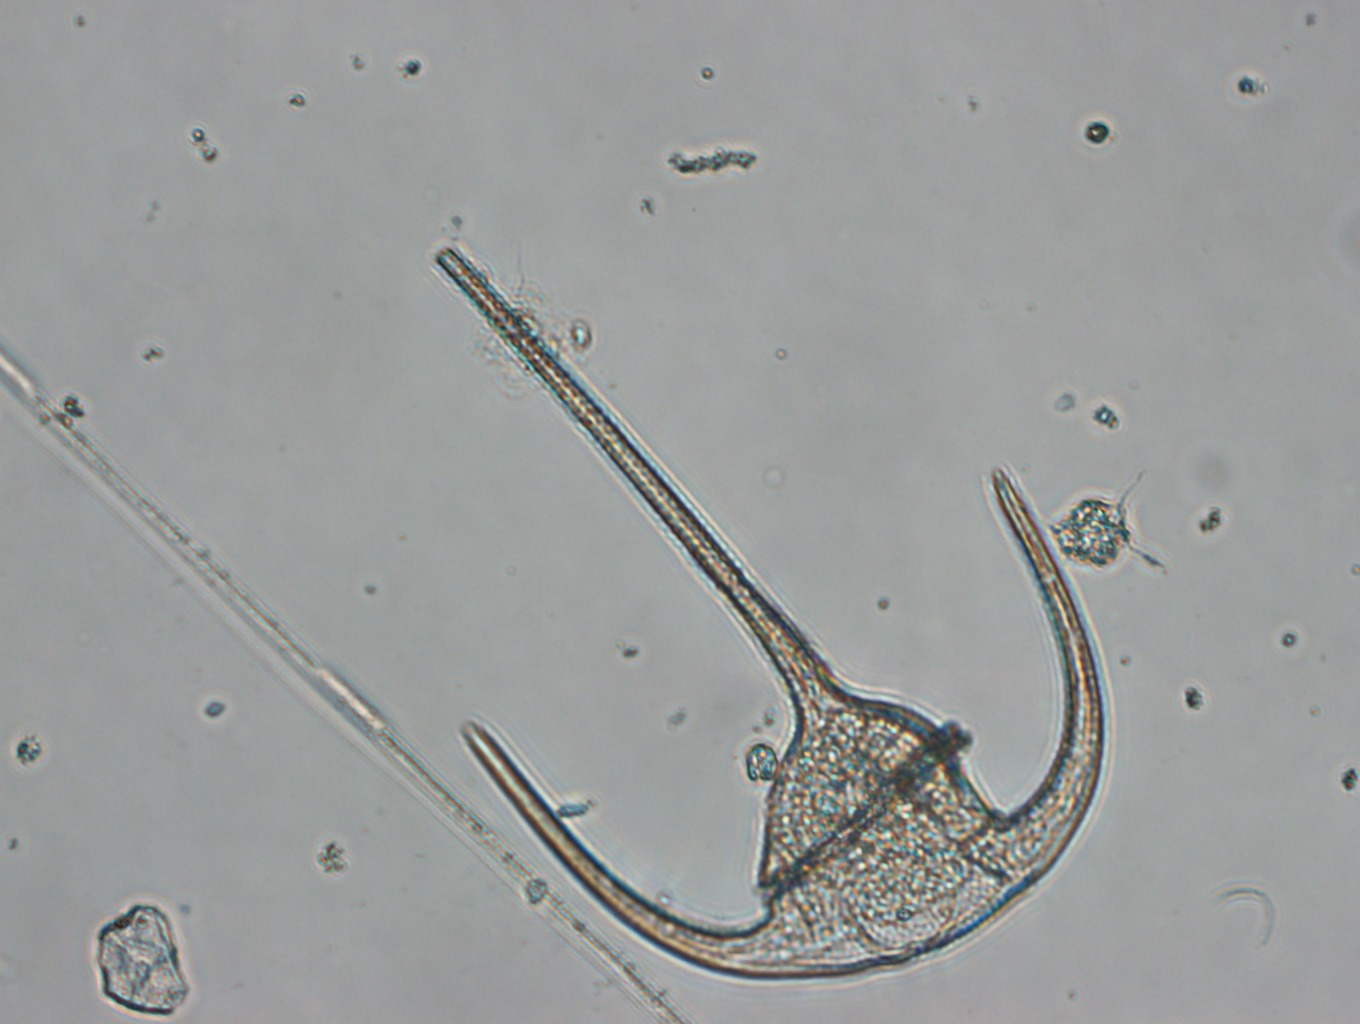ceratium tripos: (430, 241, 1110, 979)
